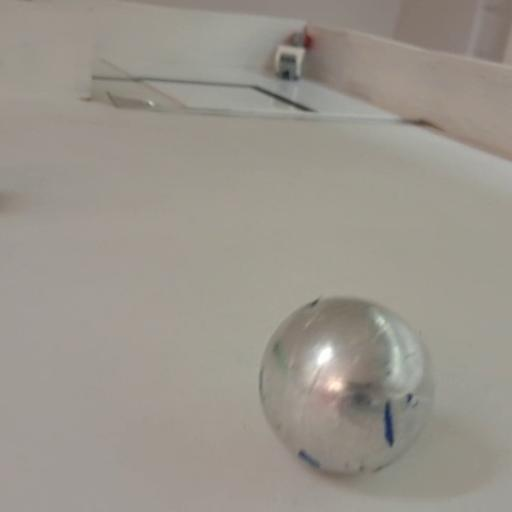alive: (254, 290, 437, 480)
